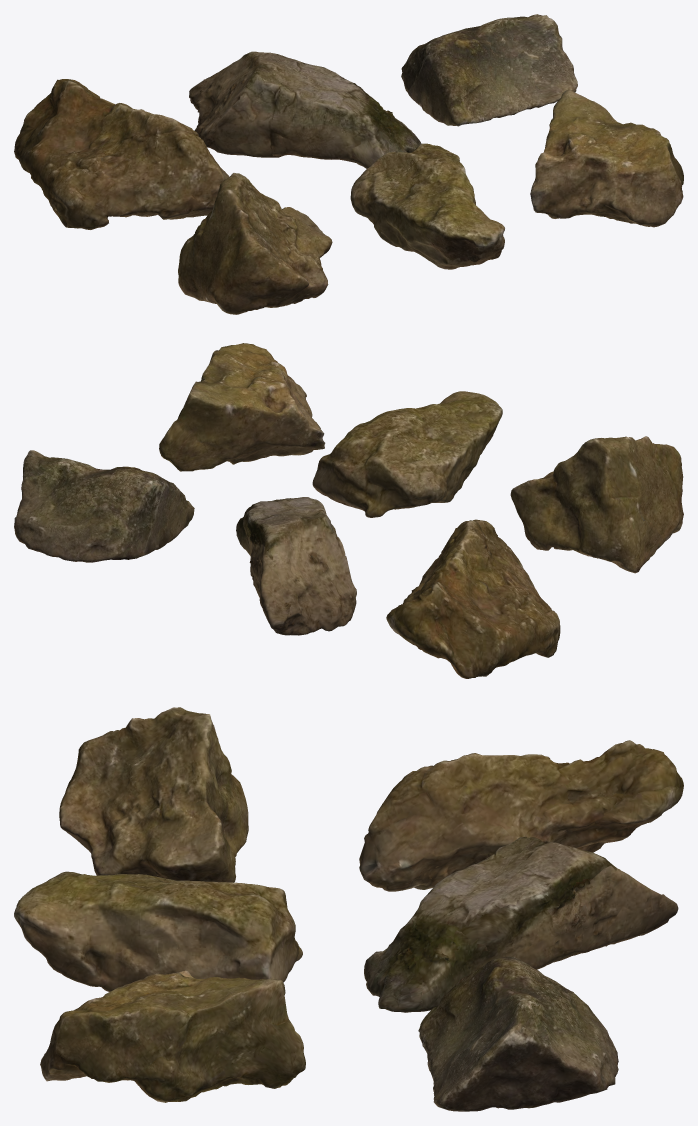
File: rock_moss_set_01.gltf
3 renders of one model, top to bottom at view 1: azimuth 30°, elevation 25°; view 2: azimuth 150°, elevation 25°; view 3: azimuth 270°, elevation 25°, orthographic. The views are drawn at different scales.
Parts seen in each view (by area): view 1: rock_moss_set_01_rock01, rock_moss_set_01_rock02, rock_moss_set_01_rock06, rock_moss_set_01_rock04, rock_moss_set_01_rock03, rock_moss_set_01_rock05; view 2: rock_moss_set_01_rock04, rock_moss_set_01_rock01, rock_moss_set_01_rock05, rock_moss_set_01_rock03, rock_moss_set_01_rock06, rock_moss_set_01_rock02; view 3: rock_moss_set_01_rock01, rock_moss_set_01_rock02, rock_moss_set_01_rock05, rock_moss_set_01_rock04, rock_moss_set_01_rock06, rock_moss_set_01_rock03.
Part boxes in pixels (x1,y1,x2,y2): rock_moss_set_01_rock01: (14,79,229,229); rock_moss_set_01_rock02: (189,51,421,168); rock_moss_set_01_rock06: (530,89,683,227); rock_moss_set_01_rock04: (178,173,332,314); rock_moss_set_01_rock03: (401,14,577,126); rock_moss_set_01_rock05: (350,143,504,269); rock_moss_set_01_rock04: (510,436,683,573); rock_moss_set_01_rock01: (386,519,560,678); rock_moss_set_01_rock05: (312,391,502,517); rock_moss_set_01_rock03: (14,450,194,562); rock_moss_set_01_rock06: (159,343,325,471); rock_moss_set_01_rock02: (236,497,356,635); rock_moss_set_01_rock01: (359,740,683,891); rock_moss_set_01_rock02: (364,836,678,1012); rock_moss_set_01_rock05: (14,871,302,991); rock_moss_set_01_rock04: (59,707,248,882); rock_moss_set_01_rock06: (40,970,305,1102); rock_moss_set_01_rock03: (418,956,618,1111).
Bounding box in the file's own units: 8 × 1.77 × 6.95.
Materials: 1 (1 with a texture image).
